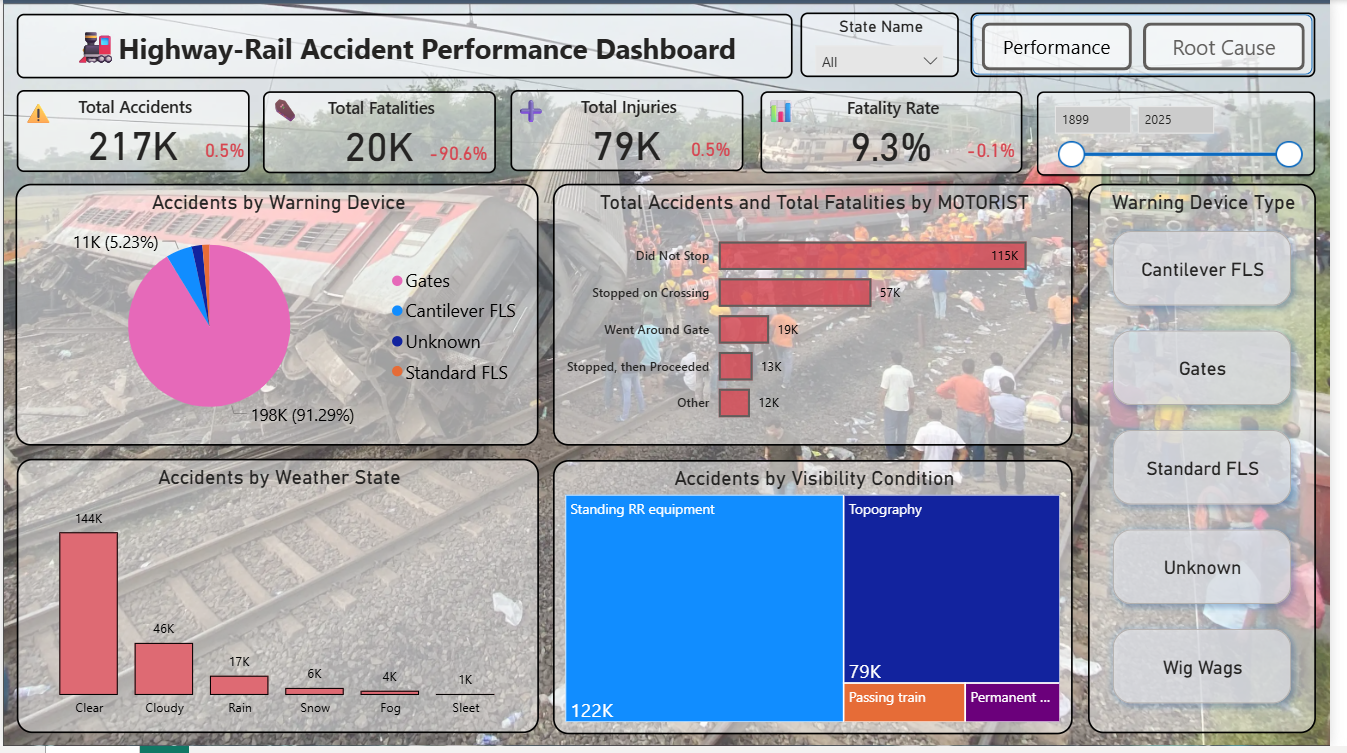

The dashboard page shown, as its layout file describes it:
{"tool":"powerbi","page":{"name":"Page 1","canvas":[1280,720],"ordinal":0},"visuals":[{"type":"group","id":"g1","title":"Group 7","box":[250.7,86,225.1,81.2],"z":0,"group":"g7"},{"type":"group","id":"g2","title":"Group 1","box":[13,86.6,225.1,79.4],"z":0,"group":"g10"},{"type":"group","id":"g3","title":"Group 2","box":[13,86.6,225.1,79.4],"z":0,"group":"g2"},{"type":"card","title":"Total Accidents","fields":{"Values":["Highway-Rail_Grade_Crossing_Accident_Incident_Source_Data__Form_57_.Total Accidents"]},"box":[13,86.6,225.1,79.4],"z":0,"group":"g3"},{"type":"group","id":"g4","title":"Group 1","box":[489.7,87.2,225,78.8],"z":0,"group":"g9"},{"type":"card","title":"Total Injuries","fields":{"Values":["Highway-Rail_Grade_Crossing_Accident_Incident_Source_Data__Form_57_.Total Injuries"]},"box":[489.7,87.2,225,78.8],"z":0,"group":"g4"},{"type":"group","id":"g5","title":"Group 4","box":[731.2,87.5,252.5,80],"z":0,"group":"g8"},{"type":"card","title":"Fatality Rate","fields":{"Values":["Highway-Rail_Grade_Crossing_Accident_Incident_Source_Data__Form_57_.Fatality Rate"]},"box":[731.2,87.5,252.5,79.4],"z":0,"group":"g5"},{"type":"group","id":"g6","title":"Group 3","box":[250.7,87.8,225.1,79.4],"z":0,"group":"g1"},{"type":"card","title":"Total Fatalities","fields":{"Values":["Highway-Rail_Grade_Crossing_Accident_Incident_Source_Data__Form_57_.Total Fatalities"]},"box":[250.7,87.8,225.1,79.4],"z":0,"group":"g6"},{"type":"shape","box":[933.8,12.5,332.5,62.5],"z":1000},{"type":"textbox","box":[252.4,86,53.8,55],"z":1000,"group":"g1"},{"type":"textbox","box":[730.9,86.9,62.5,56.2],"z":1000,"group":"g8"},{"type":"textbox","box":[13.8,87.5,50,40],"z":1000,"group":"g10"},{"type":"textbox","box":[490,87.5,53.8,42.5],"z":1000,"group":"g9"},{"type":"card","fields":{"Values":["Highway-Rail_Grade_Crossing_Accident_Incident_Source_Data__Form_57_.YoY % Change (Injuries)"]},"box":[658.8,124.5,48.8,41.2],"z":1000,"group":"g4"},{"type":"card","fields":{"Values":["Highway-Rail_Grade_Crossing_Accident_Incident_Source_Data__Form_57_.YoY % Change (Fatality Rate)"]},"box":[923.1,125,60.6,40.4],"z":1000,"group":"g5"},{"type":"card","fields":{"Values":["Highway-Rail_Grade_Crossing_Accident_Incident_Source_Data__Form_57_.YoY % change accident"]},"box":[189,125.6,49.1,40.4],"z":1000,"group":"g3"},{"type":"card","fields":{"Values":["Highway-Rail_Grade_Crossing_Accident_Incident_Source_Data__Form_57_.YoY % Change (Fatalities)"]},"box":[405.1,129.6,67.8,37.5],"z":1000,"group":"g6"},{"type":"lineChart","title":"National Accident and Fatality Trends (Annual)","fields":{"Y":["Highway-Rail_Grade_Crossing_Accident_Incident_Source_Data__Form_57_.Total Accidents"],"Y2":["Highway-Rail_Grade_Crossing_Accident_Incident_Source_Data__Form_57_.Total Fatalities"],"Category":["DateTable.Year"]},"box":[13,177.5,541,252.5],"z":2000},{"type":"columnChart","title":"Accidents by Hour of Day (Operational Risk)","fields":{"Category":["Highway-Rail_Grade_Crossing_Accident_Incident_Source_Data__Form_57_.Hour 24"],"Y":["Highway-Rail_Grade_Crossing_Accident_Incident_Source_Data__Form_57_.Total Accidents"]},"box":[13.3,444,540.5,264.2],"z":3000},{"type":"map","title":"Accident Hotspots by State","fields":{"Category":["Highway-Rail_Grade_Crossing_Accident_Incident_Source_Data__Form_57_.State Name"]},"box":[569.4,444,359.5,264.2],"z":4000},{"type":"columnChart","title":"Accident Severity by Incident Type","fields":{"Category":["Highway-Rail_Grade_Crossing_Accident_Incident_Source_Data__Form_57_.TYPACC"],"Y":["Highway-Rail_Grade_Crossing_Accident_Incident_Source_Data__Form_57_.Total Accidents"]},"box":[944.6,442.8,322.1,265.4],"z":5000},{"type":"clusteredBarChart","title":"Accident Volume vs. Train Speed (Binned)","fields":{"Category":["Highway-Rail_Grade_Crossing_Accident_Incident_Source_Data__Form_57_.TRNSPD (bins)"],"Y":["Highway-Rail_Grade_Crossing_Accident_Incident_Source_Data__Form_57_.Total Accidents"]},"box":[569.9,176,520.8,252.5],"z":6000},{"type":"slicer","title":"State Name","fields":{"Values":["Highway-Rail_Grade_Crossing_Accident_Incident_Source_Data__Form_57_.State Name"]},"box":[770,12.5,152.5,62.5],"z":7000},{"type":"slicer","title":"Date","fields":{"Values":["DateTable.Year"]},"box":[997.5,87.5,268.8,81.2],"z":8000},{"type":"textbox","box":[13,13,748.8,62],"z":9000},{"type":"advancedSlicerVisual","title":"Accident Type","fields":{"Values":["Highway-Rail_Grade_Crossing_Accident_Incident_Source_Data__Form_57_.TYPACC"]},"box":[1105.2,176,161.6,252.5],"z":10000},{"type":"group","id":"g7","title":"Group 1","box":[250.7,86,225.1,81.2],"z":11000},{"type":"group","id":"g8","title":"Group 5","box":[730.9,86.9,252.8,80.6],"z":12000},{"type":"group","id":"g9","title":"Group 6","box":[489.7,87.2,225,78.8],"z":13000},{"type":"group","id":"g10","title":"Group 8","box":[13,86.6,225.1,79.4],"z":14000},{"type":"actionButton","title":"Performance button","box":[945,21.2,145,46.2],"z":15000},{"type":"actionButton","title":"Root Cause","box":[1100,21.2,156.2,46.2],"z":16000}]}

Visuals, with their boxes in screenshot pixels (x1, y1, x2, y2), scaled from the page's 1280x720 canvas onto the 1347x753 screenshot:
"Group 7" group: bbox=[264, 90, 501, 175]
"Group 1" group: bbox=[14, 91, 251, 174]
"Group 2" group: bbox=[14, 91, 251, 174]
"Total Accidents" card: bbox=[14, 91, 251, 174]
"Group 1" group: bbox=[515, 91, 752, 174]
"Total Injuries" card: bbox=[515, 91, 752, 174]
"Group 4" group: bbox=[769, 92, 1035, 175]
"Fatality Rate" card: bbox=[769, 92, 1035, 175]
"Group 3" group: bbox=[264, 92, 501, 175]
"Total Fatalities" card: bbox=[264, 92, 501, 175]
shape: bbox=[983, 13, 1333, 78]
textbox: bbox=[266, 90, 322, 147]
textbox: bbox=[769, 91, 835, 150]
textbox: bbox=[15, 92, 67, 133]
textbox: bbox=[516, 92, 572, 136]
card - Highway-Rail_Grade_Crossing_Accident_Incident_Source_Data__Form_57_.YoY % Change (Injuries): bbox=[693, 130, 745, 173]
card - Highway-Rail_Grade_Crossing_Accident_Incident_Source_Data__Form_57_.YoY % Change (Fatality Rate): bbox=[971, 131, 1035, 173]
card - Highway-Rail_Grade_Crossing_Accident_Incident_Source_Data__Form_57_.YoY % change accident: bbox=[199, 131, 251, 174]
card - Highway-Rail_Grade_Crossing_Accident_Incident_Source_Data__Form_57_.YoY % Change (Fatalities): bbox=[426, 136, 498, 175]
"National Accident and Fatality Trends (Annual)" lineChart: bbox=[14, 186, 583, 450]
"Accidents by Hour of Day (Operational Risk)" columnChart: bbox=[14, 464, 583, 741]
"Accident Hotspots by State" map: bbox=[599, 464, 978, 741]
"Accident Severity by Incident Type" columnChart: bbox=[994, 463, 1333, 741]
"Accident Volume vs. Train Speed (Binned)" clusteredBarChart: bbox=[600, 184, 1148, 448]
"State Name" slicer: bbox=[810, 13, 971, 78]
"Date" slicer: bbox=[1050, 92, 1333, 176]
textbox: bbox=[14, 14, 802, 78]
"Accident Type" advancedSlicerVisual: bbox=[1163, 184, 1333, 448]
"Group 1" group: bbox=[264, 90, 501, 175]
"Group 5" group: bbox=[769, 91, 1035, 175]
"Group 6" group: bbox=[515, 91, 752, 174]
"Group 8" group: bbox=[14, 91, 251, 174]
"Performance button" actionButton: bbox=[994, 22, 1147, 70]
"Root Cause" actionButton: bbox=[1158, 22, 1322, 70]
